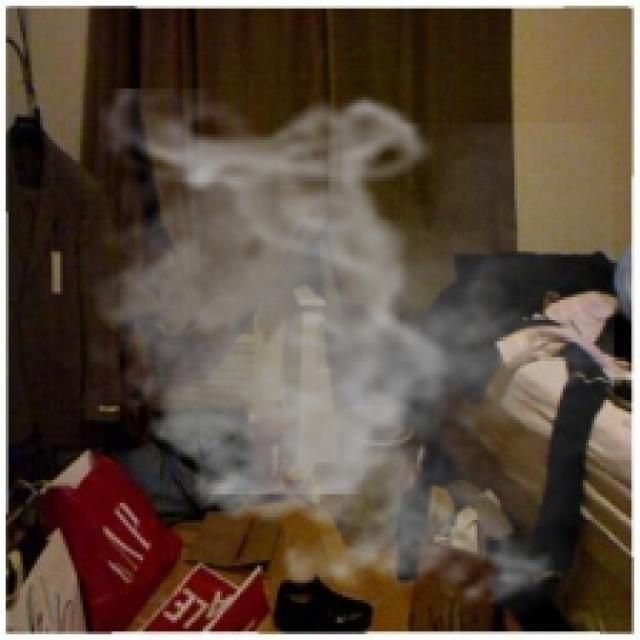smoke: (75, 89, 614, 620)
